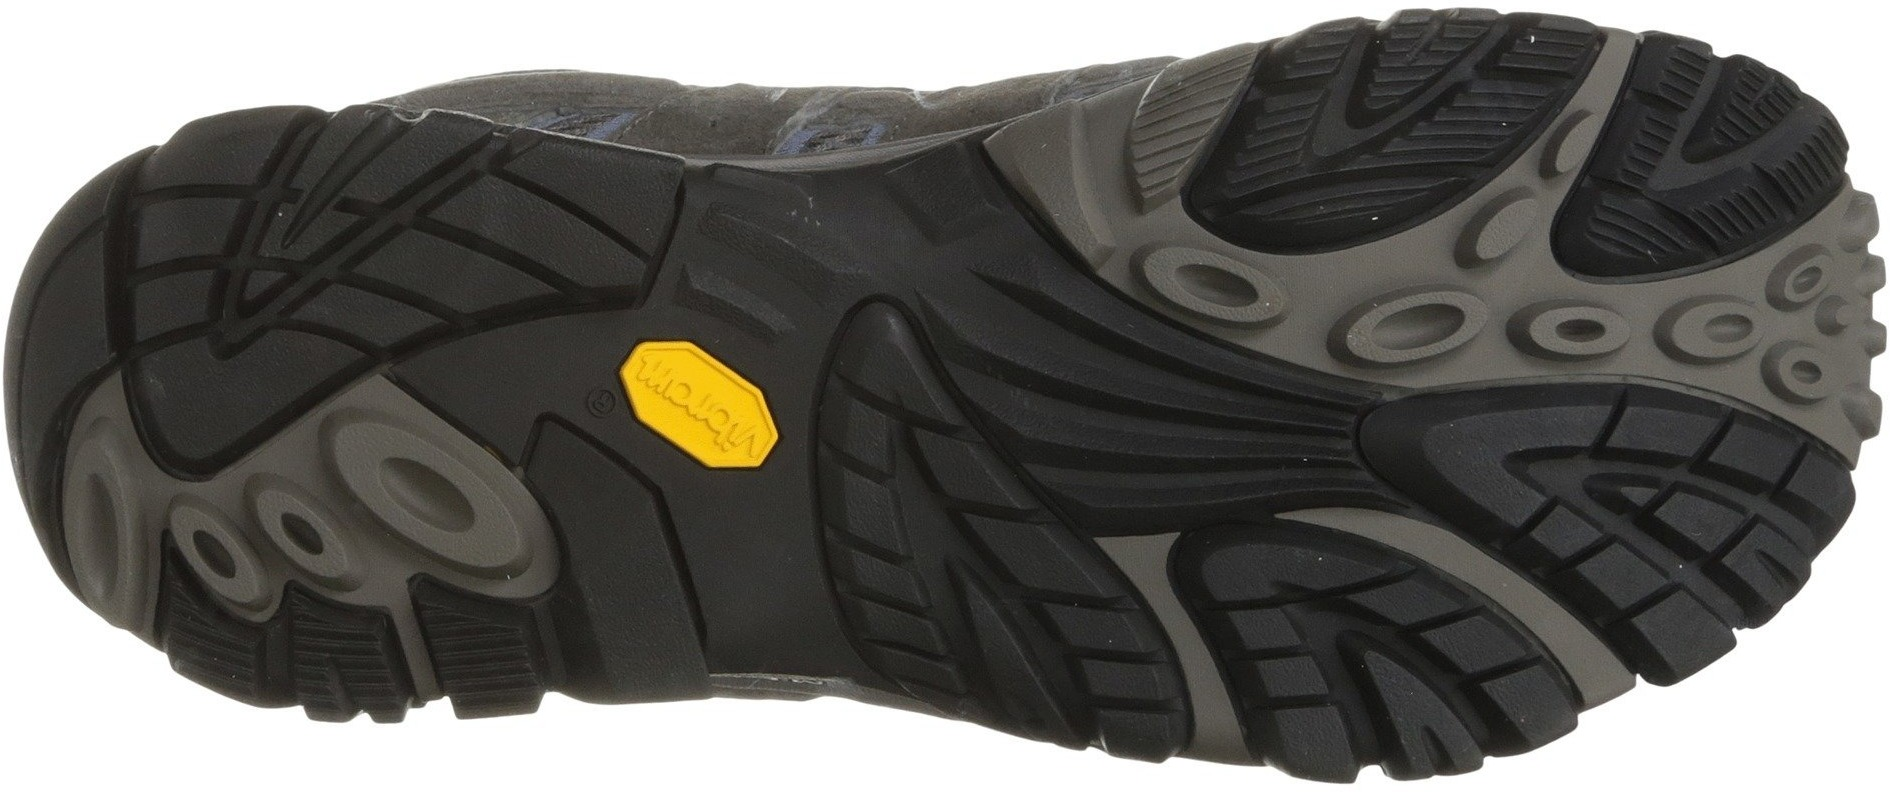circle: (297, 410, 533, 618), (1328, 240, 1499, 375), (159, 463, 290, 630), (1722, 268, 1868, 413)
quad: (372, 159, 641, 359), (800, 400, 1040, 614), (139, 178, 366, 372), (1548, 386, 1762, 589), (1208, 571, 1458, 712)
text: (650, 350, 746, 459)
